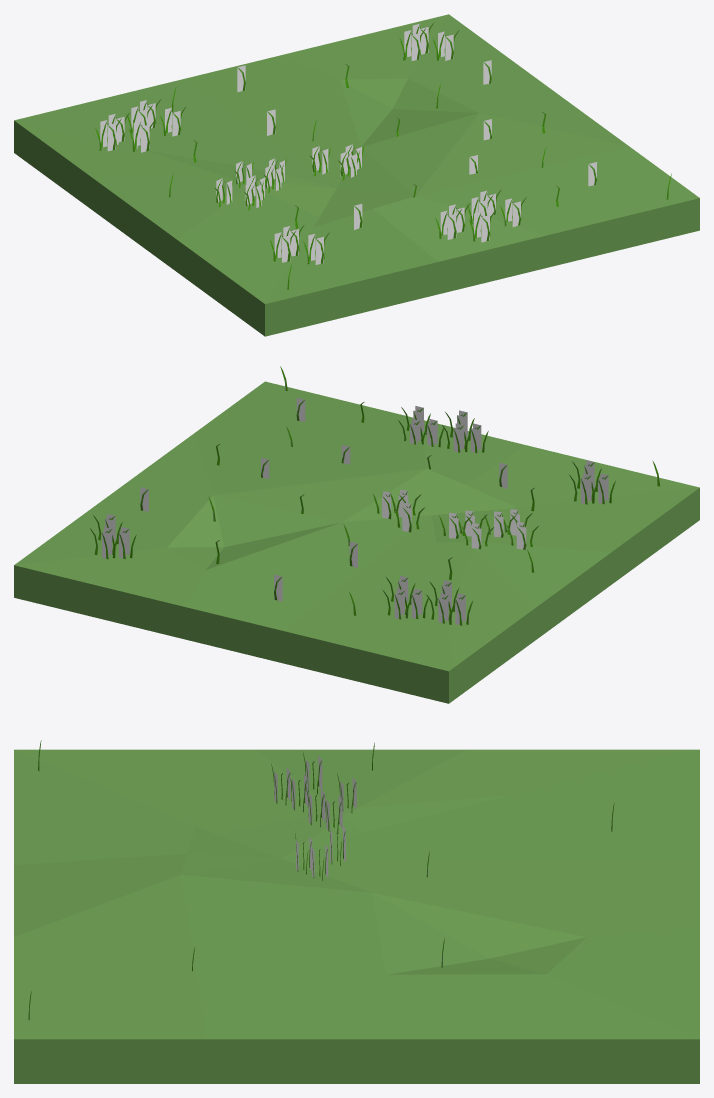
File: Grass Location.fbx
3 views of the same model, one above another, from view 1: azimuth 30°, elevation 25°; view 2: azimuth 150°, elevation 25°; view 3: azimuth 270°, elevation 25° (orthographic). The views are drawn at different scales.
Parts seen in each view (by area): view 1: Cube; view 2: Cube; view 3: Cube.
Part boxes in pixels (x1,y1,x2,y2): Cube: (14,14,699,336); Cube: (14,381,699,703); Cube: (14,749,699,1083).
Size of the model in its own units: 1400 by 181 by 1400.
